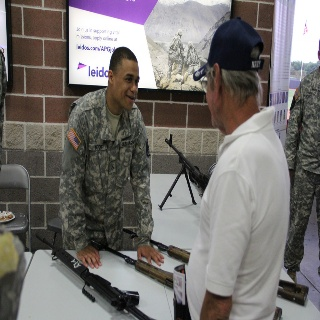rifle: (147, 234, 312, 306), (34, 232, 158, 320), (90, 236, 183, 290), (159, 135, 213, 209)
